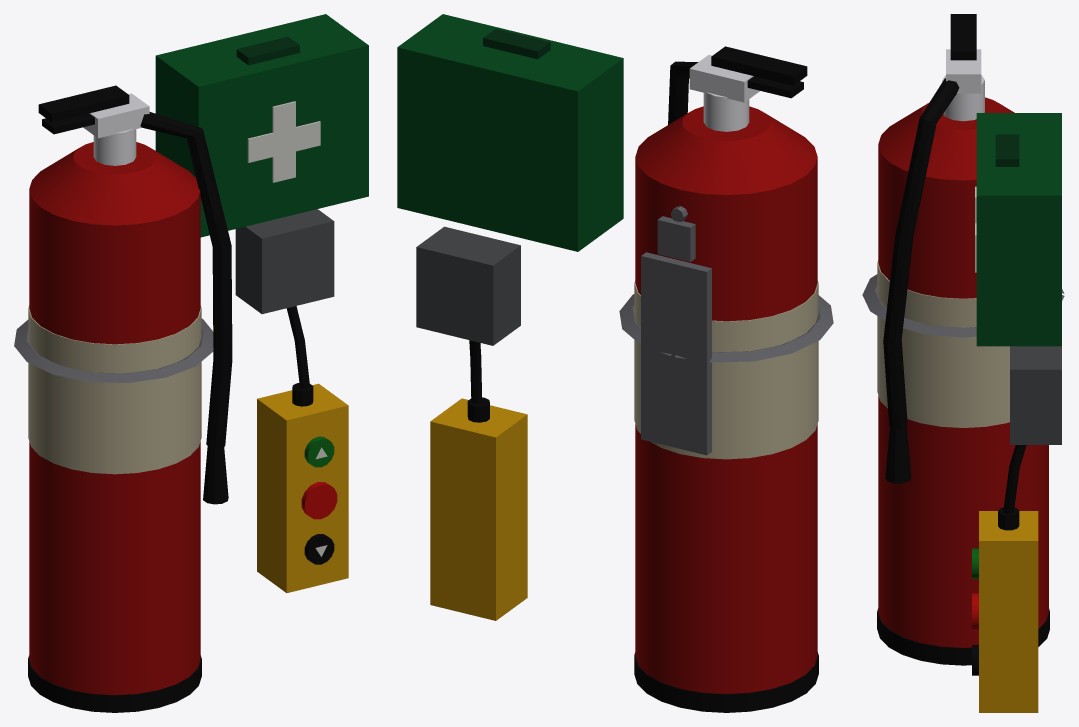
Rendered from safety-wall.glb.
3 views of the same model, side by side, from view 1: azimuth 30°, elevation 25°; view 2: azimuth 150°, elevation 25°; view 3: azimuth 270°, elevation 25° (orthographic). The views are drawn at different scales.
Visible parts, largest first — view 1: safety-wall; view 2: safety-wall; view 3: safety-wall.
Part boxes in pixels (x1,y1,x2,y2): safety-wall: [14, 14, 368, 712]; safety-wall: [397, 14, 833, 712]; safety-wall: [862, 14, 1064, 712].
Size of the model in its own units: 0.3379 by 0.541 by 0.1706.
